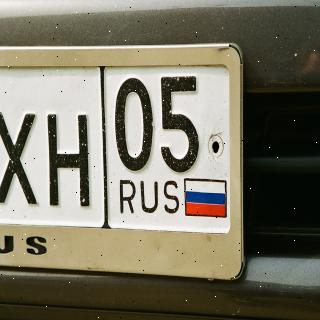license: (1, 41, 245, 282)
